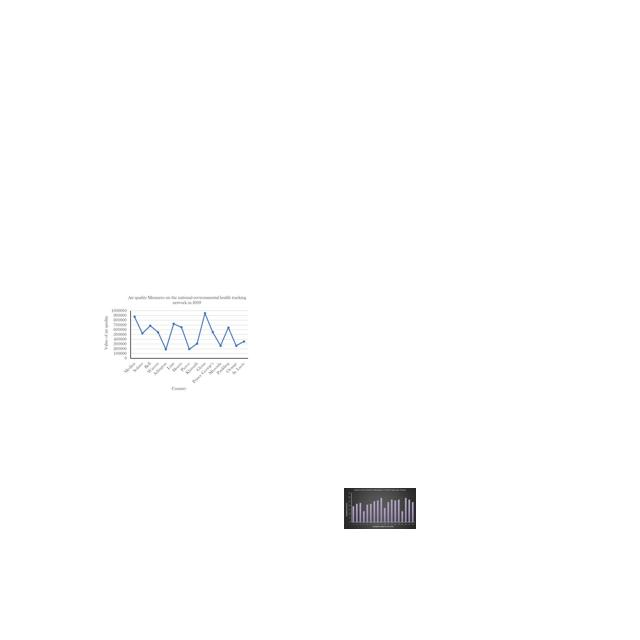Graph: (102, 293, 252, 392), (344, 488, 416, 529)
